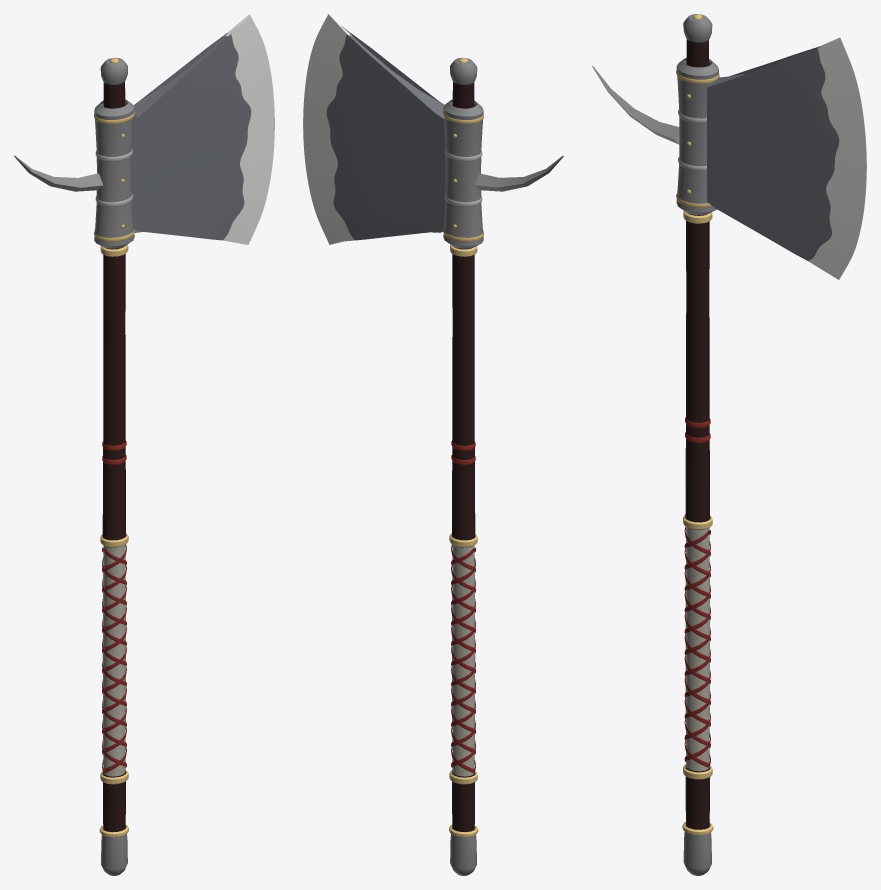
File: gear_edo_ono.glb
3 renders of one model, left to right at view 1: azimuth 30°, elevation 25°; view 2: azimuth 150°, elevation 25°; view 3: azimuth 330°, elevation 25°, orthographic. The views are drawn at different scales.
Parts seen in each view (by area): view 1: gear_edo_ono; view 2: gear_edo_ono; view 3: gear_edo_ono.
Boxes of the visible parts, x1=… form: gear_edo_ono: x1=14, y1=14, x2=274, y2=875; gear_edo_ono: x1=303, y1=14, x2=563, y2=875; gear_edo_ono: x1=592, y1=14, x2=866, y2=875.
Bounding box in the file's own units: 0.4821 × 1.46 × 0.0584.
